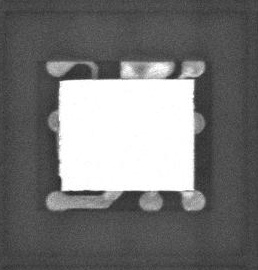DIE_BROKEN: (57, 172, 64, 192)
